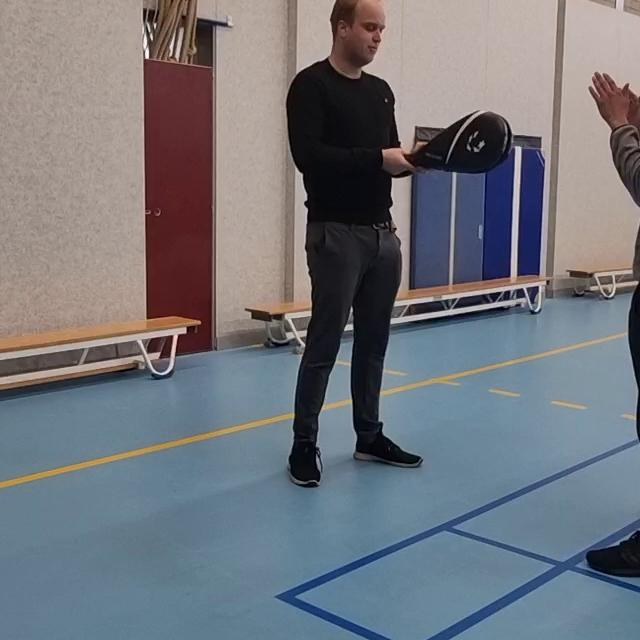paddle: (406, 106, 518, 180)
